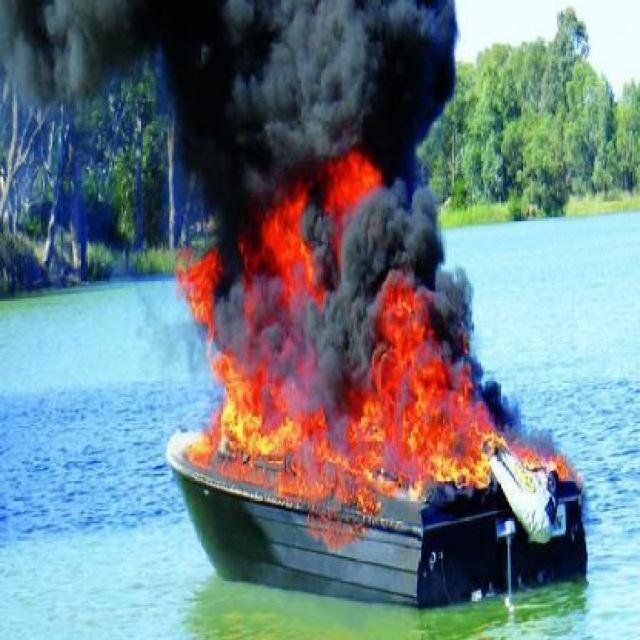Fire: (168, 148, 586, 562)
Smoke: (8, 0, 510, 188), (296, 205, 487, 372), (99, 224, 224, 393)
